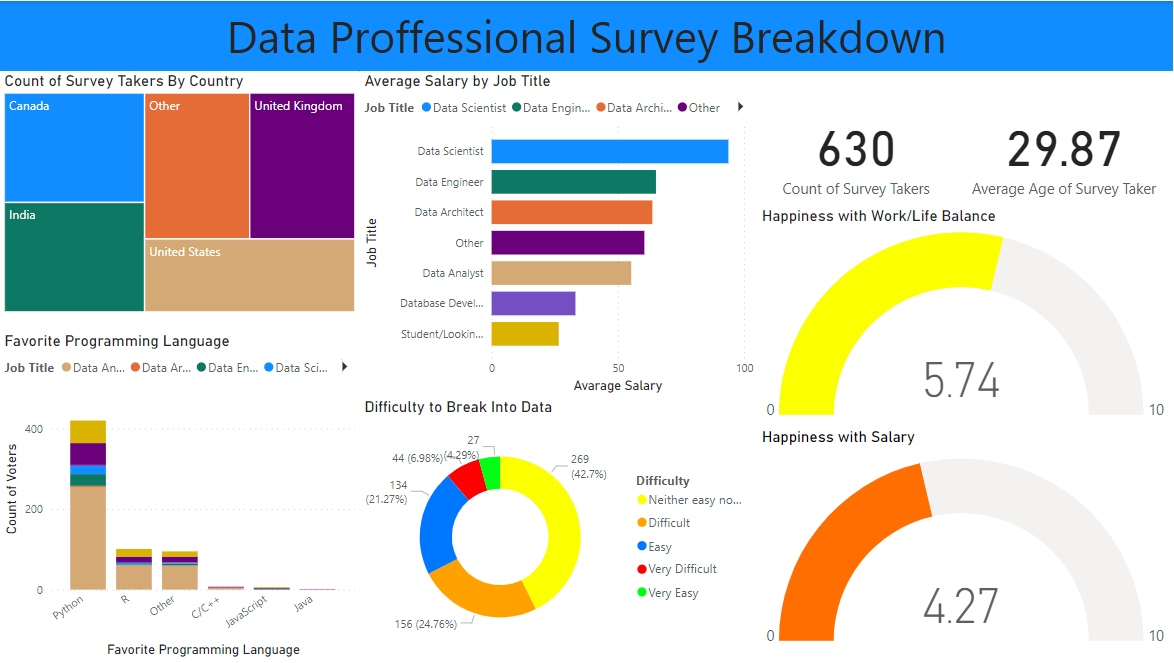

What the dashboard file says about the page in this screenshot:
{"tool":"powerbi","page":{"name":"Page 1","canvas":[1280,720],"ordinal":0},"visuals":[{"type":"textbox","box":[0,0,1280.3,76.8],"z":0},{"type":"card","fields":{"Values":["CountNonNull(Data Professional Survey.Unique ID)"]},"box":[826.6,76.4,215.6,178.2],"z":1000},{"type":"card","fields":{"Values":["Avg(Data Professional Survey.Q10 - Current Age)"]},"box":[1042.2,76.4,238.1,178.2],"z":2000},{"type":"barChart","title":"Average Salary by Job Title","fields":{"Category":["Data Professional Survey.Q1 - Which Title Best Fits your Current Role?.1"],"Y":["Avg(Data Professional Survey.Avarage Salary)"],"Series":["Data Professional Survey.Q1 - Which Title Best Fits your Current Role?.1"]},"box":[392.3,76.4,434.3,356.4],"z":3000},{"type":"columnChart","title":"Favorite Programming Language","fields":{"Category":["Data Professional Survey.Q5 - Favorite Programming Language.1"],"Y":["CountNonNull(Data Professional Survey.Unique ID)"],"Series":["Data Professional Survey.Q1 - Which Title Best Fits your Current Role?.1"]},"box":[0,359.4,392.3,360.9],"z":4000},{"type":"treemap","title":"Count of Survey Takers By Country","fields":{"Group":["Data Professional Survey.Q11 - Which Country do you live in?.1"],"Values":["Count(Data Professional Survey.Q11 - Which Country do you live in?.1)"]},"box":[0,76.4,392.3,268],"z":5000},{"type":"gauge","title":"Happiness with Work/Life Balance","fields":{"Y":["Avg(Data Professional Survey.Q6 - How Happy are you in your Current Position with the following? (Work/Life Balance))"],"MinValue":["Min(Data Professional Survey.Q6 - How Happy are you in your Current Position with the following? (Work/Life Balance))1"],"MaxValue":["Max(Data Professional Survey.Q6 - How Happy are you in your Current Position with the following? (Work/Life Balance))2"]},"box":[826.6,223.1,453.7,242.6],"z":6000},{"type":"gauge","title":"Happiness with Salary","fields":{"Y":["Avg(Data Professional Survey.Q6 - How Happy are you in your Current Position with the following? (Salary))"],"MinValue":["Min(Data Professional Survey.Q6 - How Happy are you in your Current Position with the following? (Salary))1"],"MaxValue":["Max(Data Professional Survey.Q6 - How Happy are you in your Current Position with the following? (Salary))2"]},"box":[826.6,465.7,453.7,253.1],"z":7000},{"type":"donutChart","title":"Difficulty to Break Into Data","fields":{"Category":["Data Professional Survey.Q7 - How difficult was it for you to break into Data?"],"Y":["CountNonNull(Data Professional Survey.Q7 - How difficult was it for you to break into Data?)"]},"box":[392.3,432.8,434.3,286],"z":8000}]}

Visuals, with their boxes in screenshot pixels (x1, y1, x2, y2), scaled from the page's 1280x720 canvas onto the 1174x663 screenshot:
textbox: crop(0, 0, 1173, 71)
card - CountNonNull(Data Professional Survey.Unique ID): crop(758, 70, 956, 234)
card - Avg(Data Professional Survey.Q10 - Current Age): crop(956, 70, 1173, 234)
"Average Salary by Job Title" barChart: crop(360, 70, 758, 399)
"Favorite Programming Language" columnChart: crop(0, 331, 360, 662)
"Count of Survey Takers By Country" treemap: crop(0, 70, 360, 317)
"Happiness with Work/Life Balance" gauge: crop(758, 205, 1173, 429)
"Happiness with Salary" gauge: crop(758, 429, 1173, 662)
"Difficulty to Break Into Data" donutChart: crop(360, 399, 758, 662)
